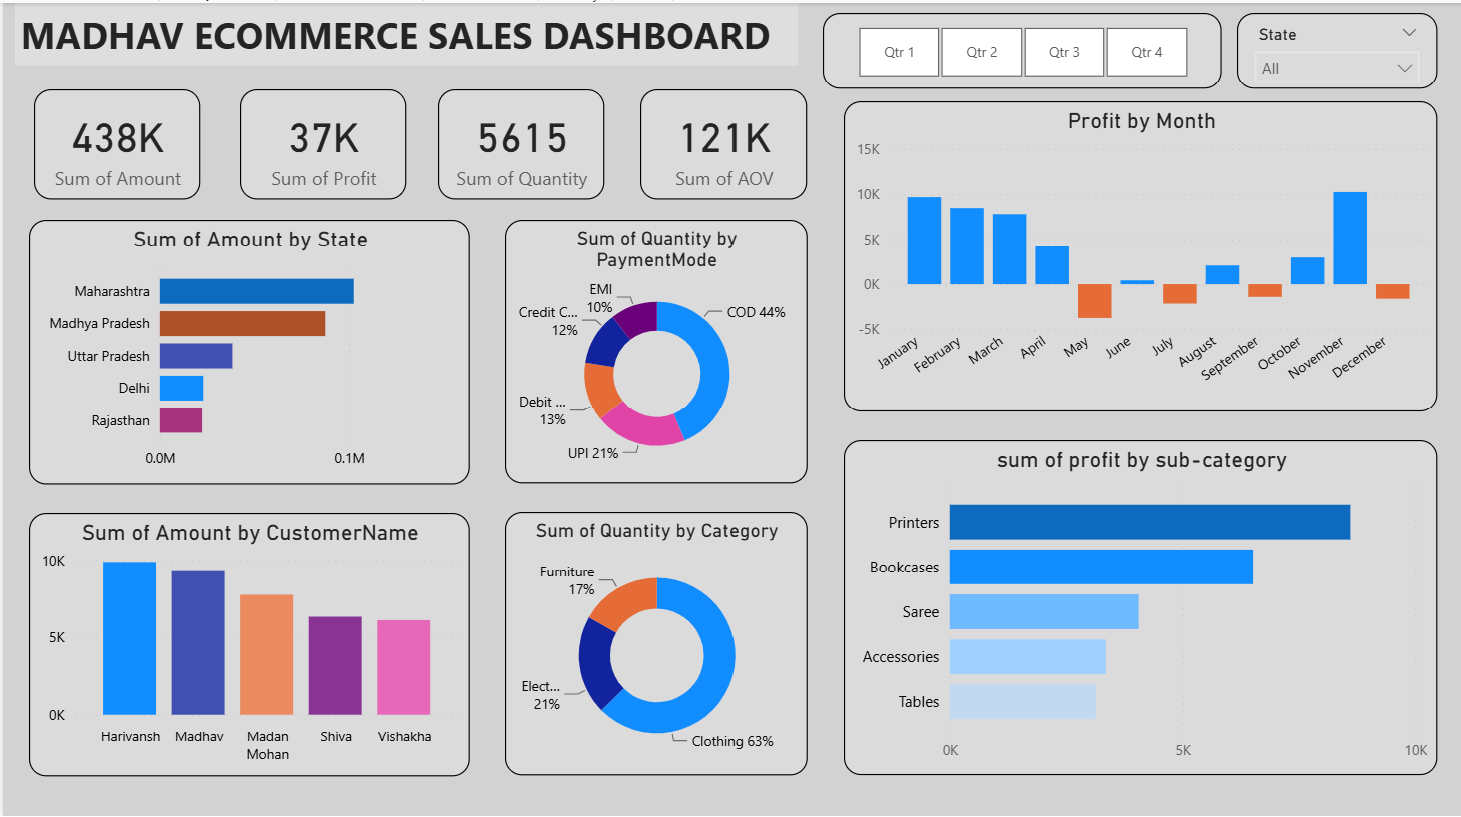

The dashboard page shown, as its layout file describes it:
{"tool":"powerbi","page":{"name":"Page 2","canvas":[1280,720],"ordinal":1},"visuals":[{"type":"textbox","box":[10.6,0,687.1,54.7],"z":0},{"type":"columnChart","title":"Profit by Month","fields":{"Category":["Orders.Order Date.Variation.Date Hierarchy.Month"],"Y":["Details.Profit"]},"box":[737.3,86.7,521.4,273.6],"z":1000},{"type":"barChart","title":"sum of profit by sub-category","fields":{"Category":["Details.Sub-Category"],"Y":["Details.Profit"]},"box":[737.3,386.1,521.4,296.4],"z":2000},{"type":"donutChart","fields":{"Y":["Details.Quantity"],"Category":["Details.Category"]},"box":[440.9,450,264.5,232.6],"z":3000},{"type":"card","fields":{"Values":["Details.Amount"]},"box":[27.4,76,145.9,97.3],"z":4000},{"type":"donutChart","fields":{"Y":["Details.Quantity"],"Category":["Details.PaymentMode"]},"box":[440.9,191.5,264.5,232.6],"z":5000},{"type":"card","fields":{"Values":["Details.Quantity"]},"box":[381.6,76,145.9,97.3],"z":6000},{"type":"card","fields":{"Values":["Details.AOV"]},"box":[559.4,76,145.9,97.3],"z":7000},{"type":"card","fields":{"Values":["Details.Profit"]},"box":[208.3,76,145.9,97.3],"z":8000},{"type":"clusteredBarChart","fields":{"Category":["Orders.State"],"Y":["Details.Amount"]},"box":[22.8,191.8,387.4,233.6],"z":9000},{"type":"columnChart","fields":{"Category":["Orders.CustomerName"],"Y":["Details.Amount"]},"box":[23,450,387,233],"z":10000},{"type":"slicer","fields":{"Values":["Orders.State"]},"box":[1082.4,9.1,176.3,66.9],"z":10002},{"type":"slicer","fields":{"Values":["Orders.Order Date.Variation.Date Hierarchy.Quarter"]},"box":[719,9.1,349.6,66.9],"z":10003}]}

Visuals, with their boxes in screenshot pixels (x1, y1, x2, y2), scaled from the page's 1280x720 canvas onto the 1461x817 screenshot:
textbox: region(12, 0, 796, 62)
"Profit by Month" columnChart: region(842, 98, 1437, 409)
"sum of profit by sub-category" barChart: region(842, 438, 1437, 774)
donutChart - Details.Quantity x Details.Category: region(503, 511, 805, 775)
card - Details.Amount: region(31, 86, 198, 197)
donutChart - Details.Quantity x Details.PaymentMode: region(503, 217, 805, 481)
card - Details.Quantity: region(436, 86, 602, 197)
card - Details.AOV: region(639, 86, 805, 197)
card - Details.Profit: region(238, 86, 404, 197)
clusteredBarChart - Orders.State x Details.Amount: region(26, 218, 468, 483)
columnChart - Orders.CustomerName x Details.Amount: region(26, 511, 468, 775)
slicer - Orders.State: region(1235, 10, 1437, 86)
slicer - Orders.Order Date.Variation.Date Hierarchy.Quarter: region(821, 10, 1220, 86)
